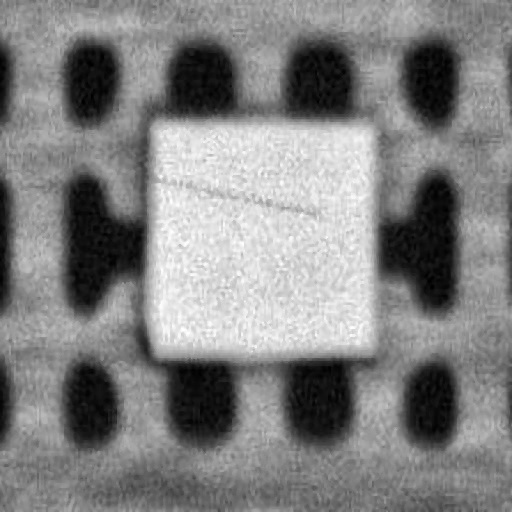DIE_CRACK: (220, 117, 480, 142)
